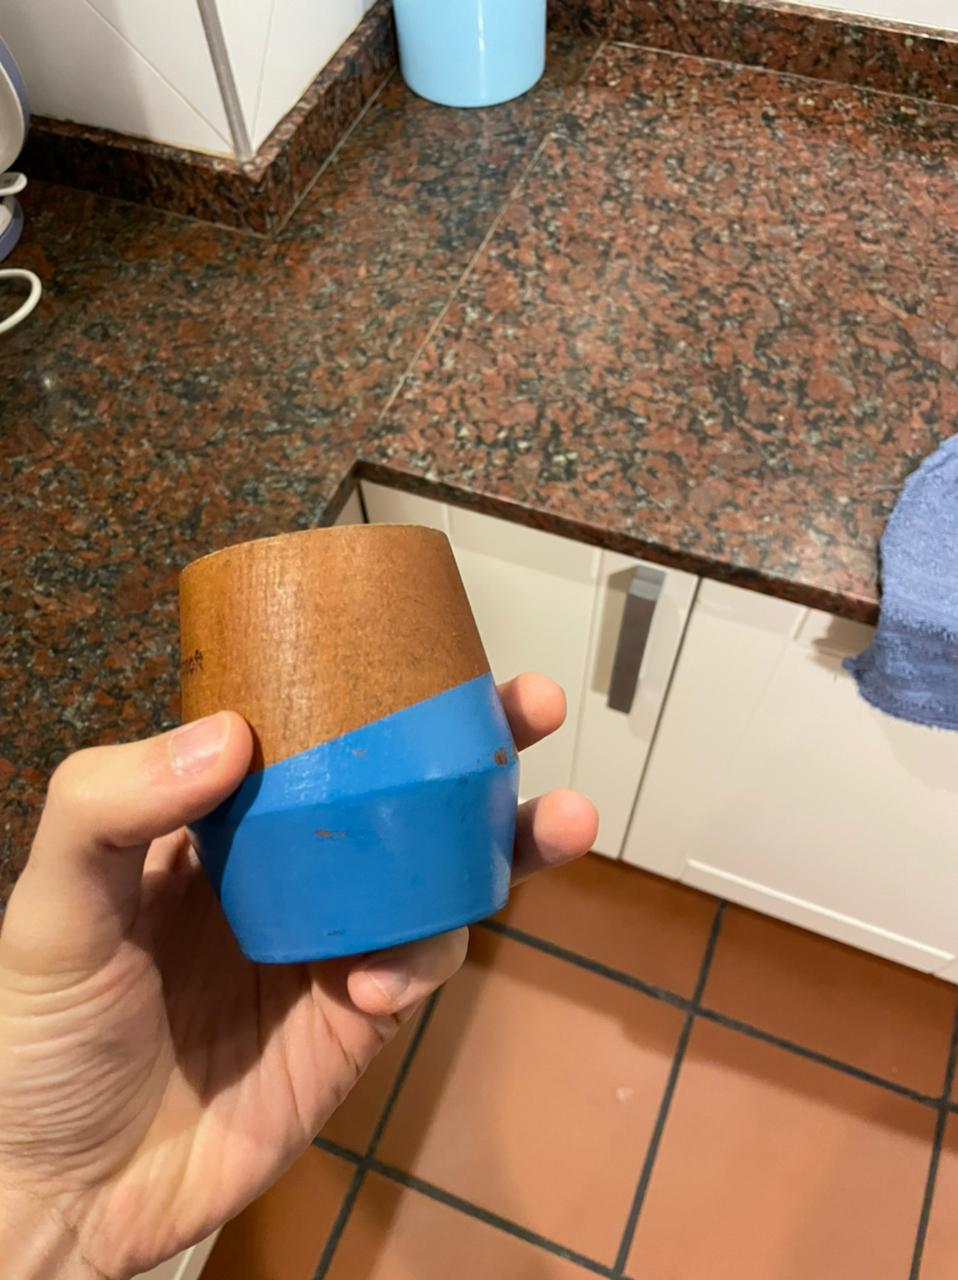madera: (155, 506, 527, 969)
mate: (153, 504, 525, 967)
